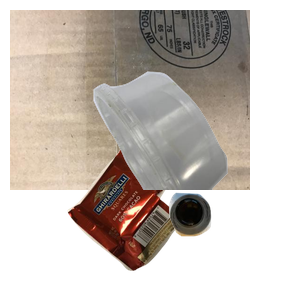cardboard: (10, 10, 250, 190)
glass: (166, 190, 300, 300)
plastic: (91, 69, 300, 249)
trash: (65, 145, 242, 300)
